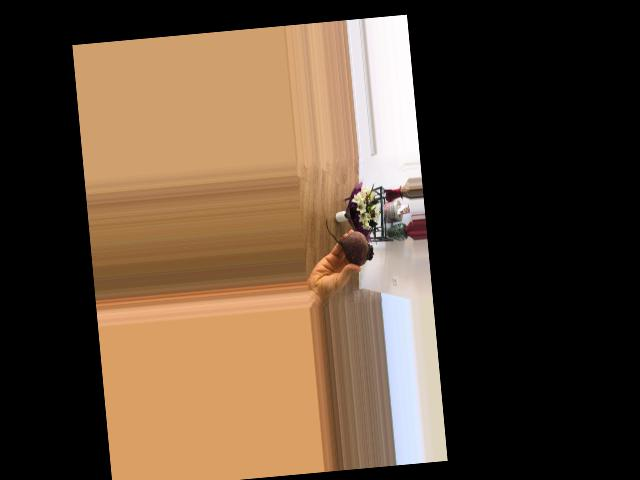beet: (325, 213, 374, 268)
